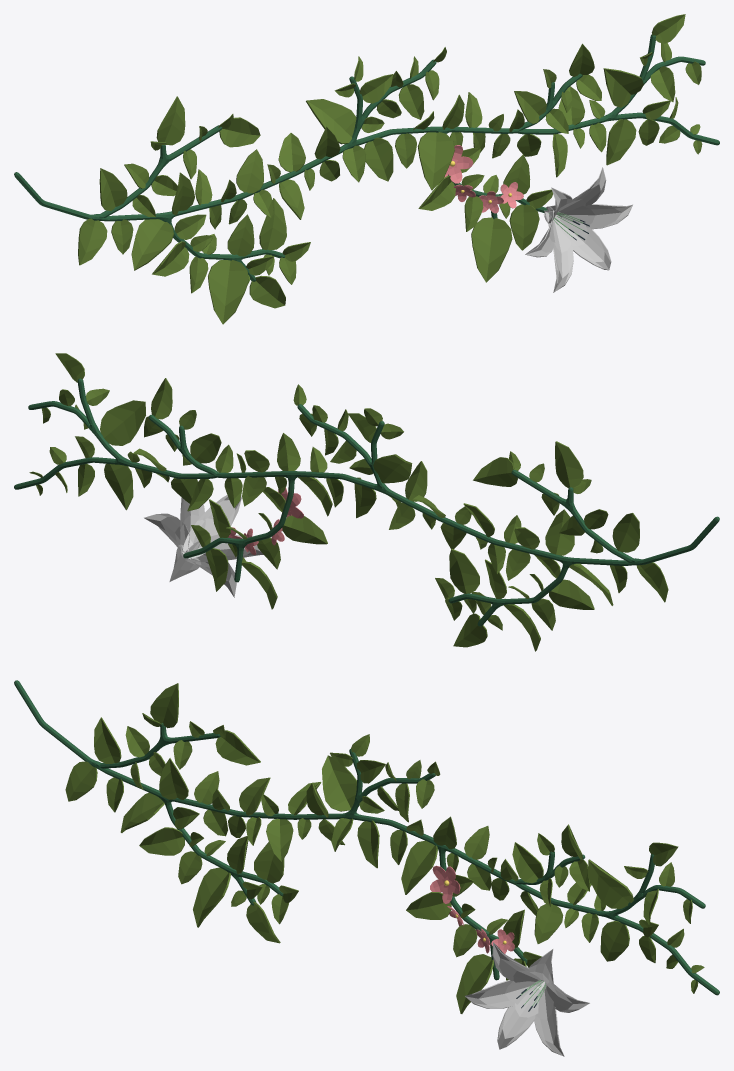
The model's file is mod_bg_JaugeBiodiversité.fbx.
3 renders of one model, top to bottom at view 1: azimuth 30°, elevation 25°; view 2: azimuth 150°, elevation 25°; view 3: azimuth 330°, elevation 25°, orthographic.
Visible parts, largest first — view 1: Jauge, Lys, Fleur5; view 2: Jauge, Lys; view 3: Jauge, Lys, Fleur5.
Part boxes in pixels (left/top/right/bottom): Jauge: left=14, top=14, right=719, bottom=324; Lys: left=525, top=167, right=632, bottom=292; Fleur5: left=444, top=145, right=473, bottom=183; Jauge: left=14, top=353, right=719, bottom=651; Lys: left=144, top=495, right=263, bottom=597; Jauge: left=14, top=680, right=719, bottom=1013; Lys: left=465, top=942, right=589, bottom=1056; Fleur5: left=430, top=865, right=460, bottom=903.
Size of the model in its own units: 200 by 71.09 by 23.36.
